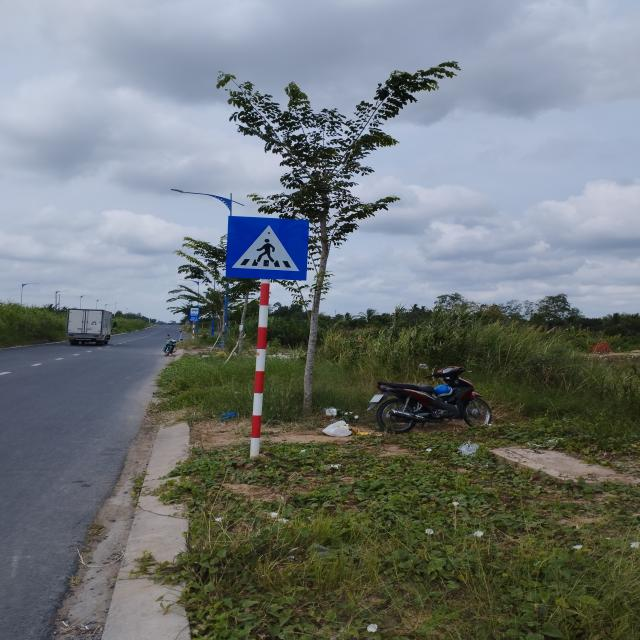Giao_Nhau_Duong_Uu_Tien: (226, 216, 308, 281)
